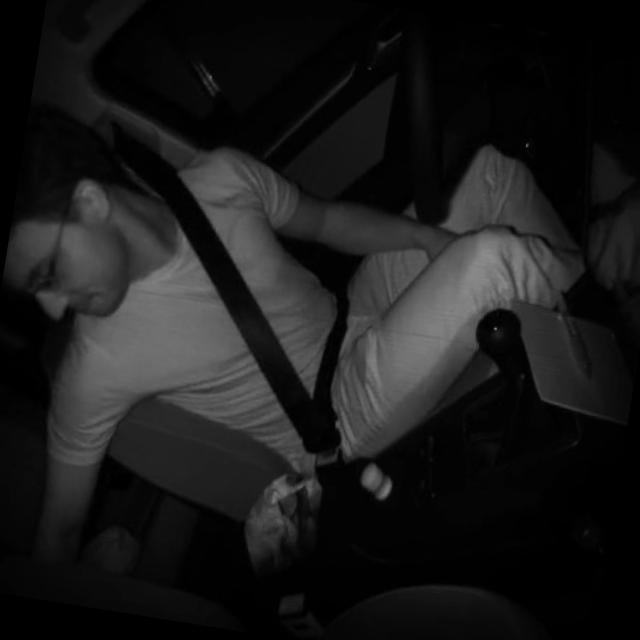pen: (540, 280, 608, 386)
